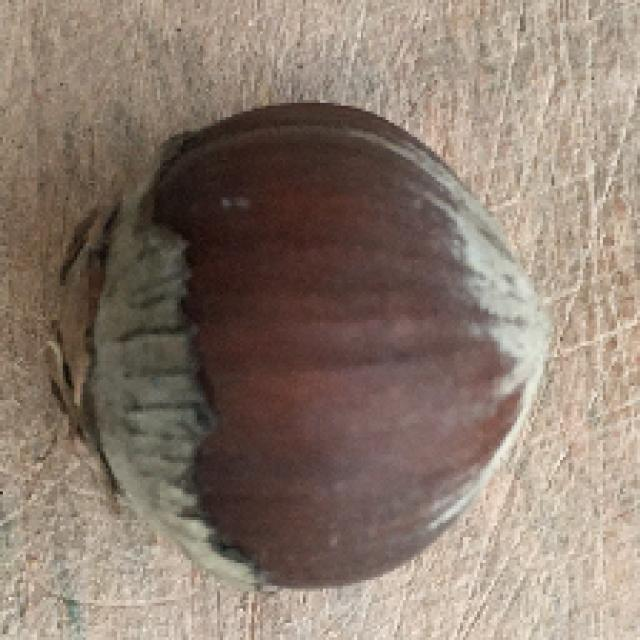DamagedHazelnut: (44, 104, 561, 594)
